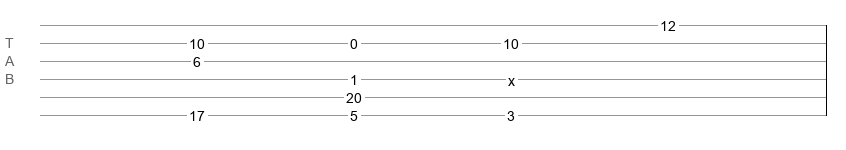0: (350, 36, 358, 46)
1: (350, 72, 358, 82)
10: (189, 36, 205, 46), (503, 36, 519, 46)
12: (660, 18, 676, 28)
17: (189, 108, 205, 118)
20: (346, 90, 362, 100)
3: (507, 108, 515, 118)
5: (350, 108, 358, 118)
6: (193, 54, 201, 64)
x: (508, 73, 515, 81)
